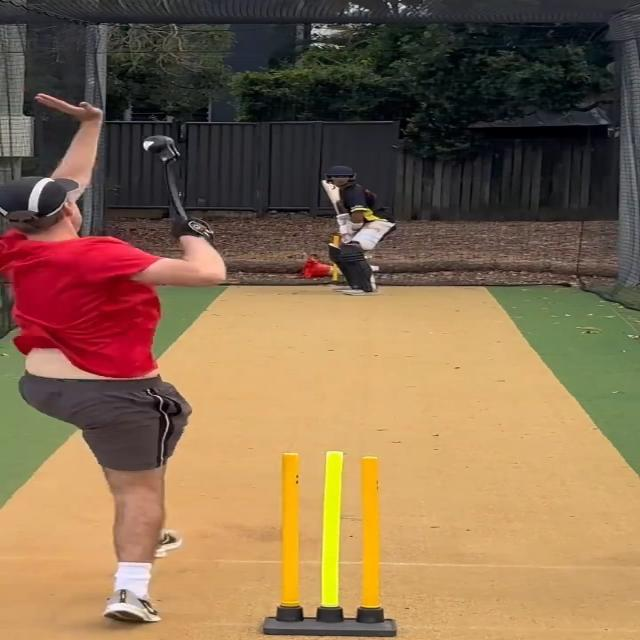stump: (263, 448, 398, 634)
